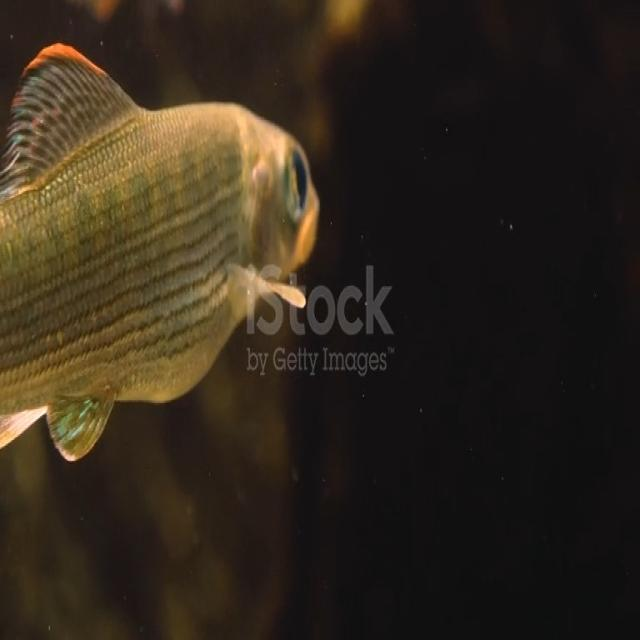fish: (1, 42, 332, 474)
